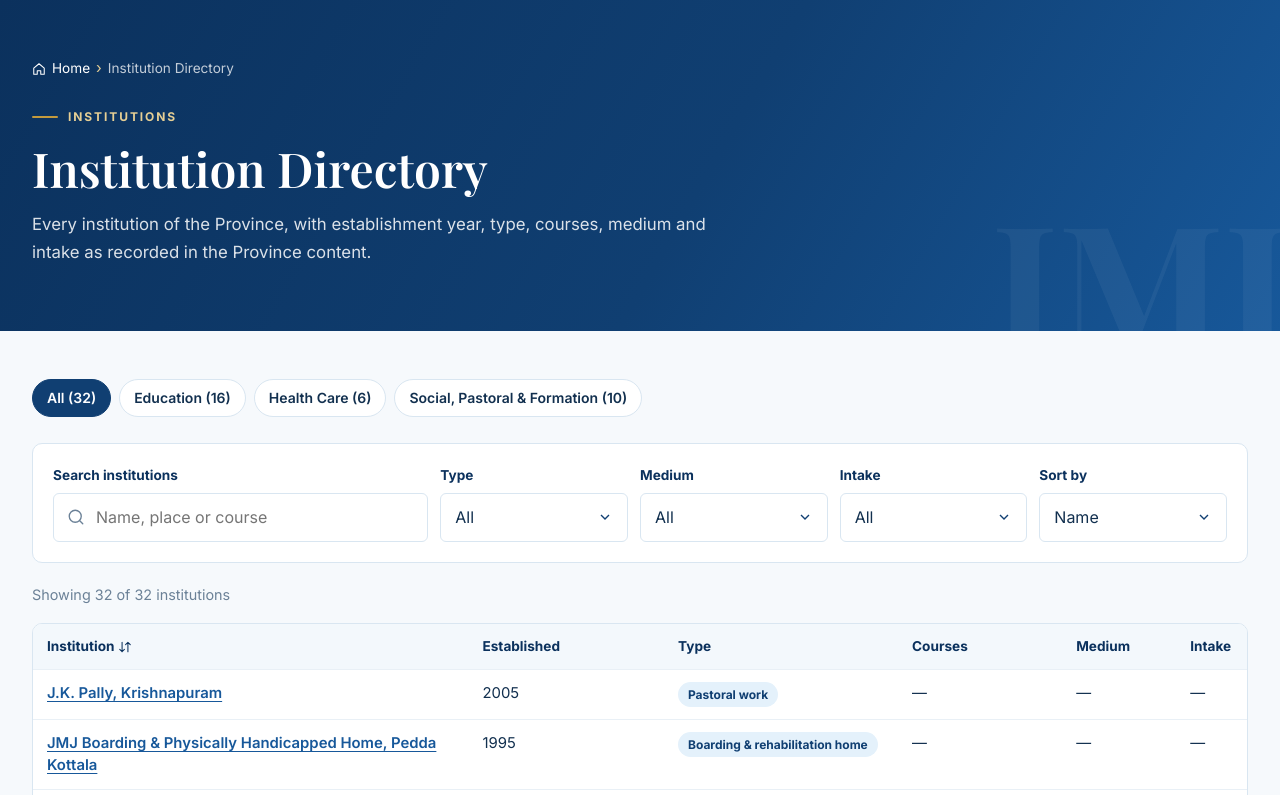
Scenario: InstitutionsPage › shows an empty state when nothing matches
The image size is (1280, 795).
In the search field labelled "Search institutions": (241, 517) [53, 493, 428, 542], type "zzzznotthere"
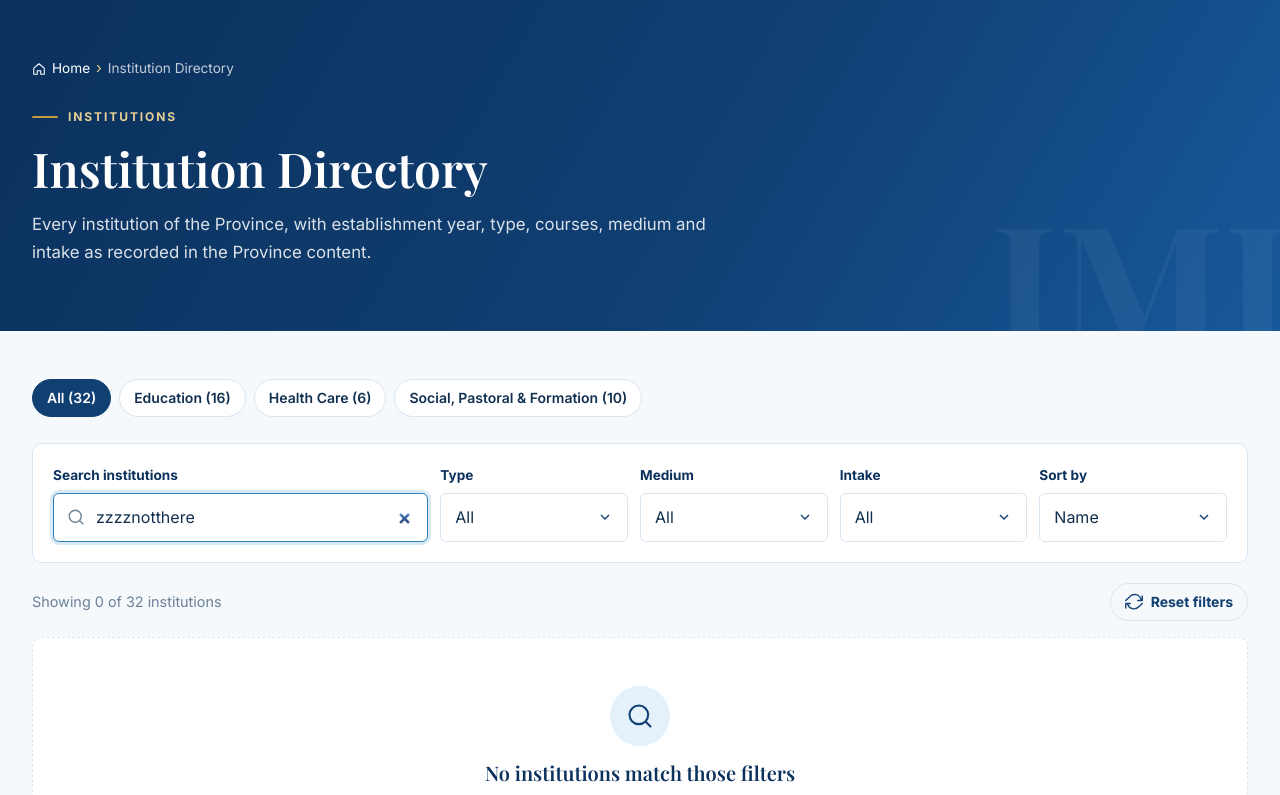
expect the heading "No institutions match those filters" is shown: met, box [485, 759, 795, 786]
